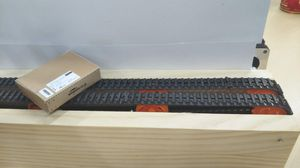box2: (13, 49, 101, 114)
